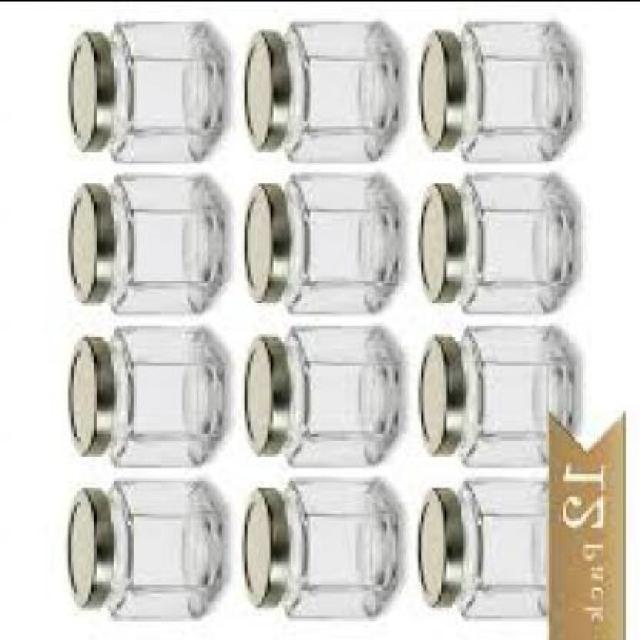GLASS: (102, 475, 225, 614), (454, 325, 574, 466), (105, 324, 222, 467), (278, 325, 398, 463), (278, 475, 396, 614), (282, 168, 398, 307), (452, 173, 572, 307), (105, 173, 222, 307), (458, 21, 574, 156), (282, 20, 398, 154), (106, 21, 220, 156), (456, 478, 550, 618)
METAL: (238, 483, 288, 603), (414, 176, 464, 296), (62, 330, 111, 452), (64, 28, 114, 146), (62, 483, 111, 603), (64, 182, 114, 298), (242, 25, 288, 148), (414, 327, 460, 447), (238, 332, 284, 450), (412, 483, 458, 600), (242, 176, 284, 299), (416, 26, 458, 146)
